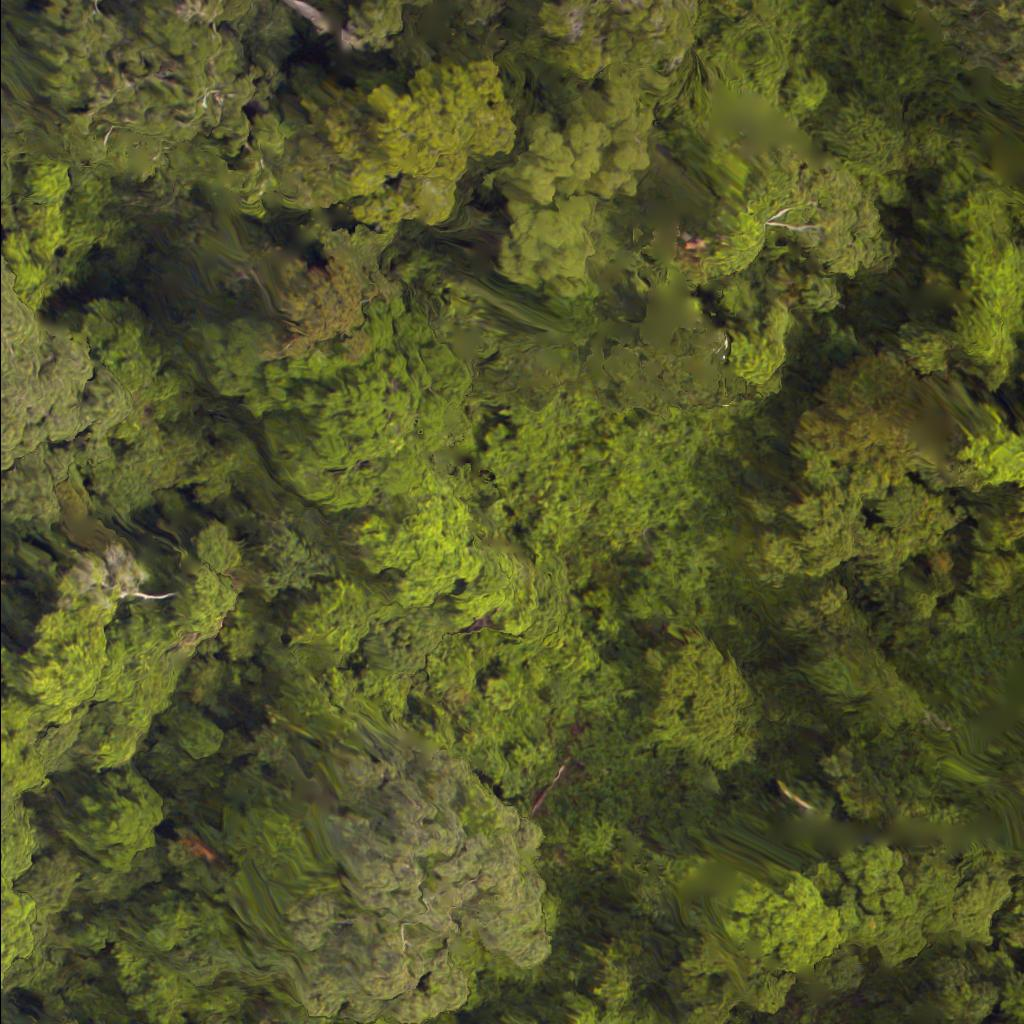crown: (262, 60, 503, 232), (657, 841, 854, 988), (909, 0, 1023, 67), (1004, 755, 1023, 833)
